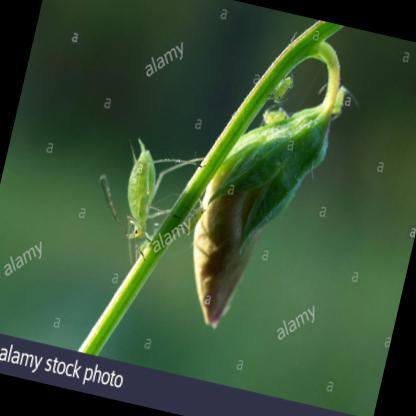schizaphis graminum: (127, 154, 155, 243)
